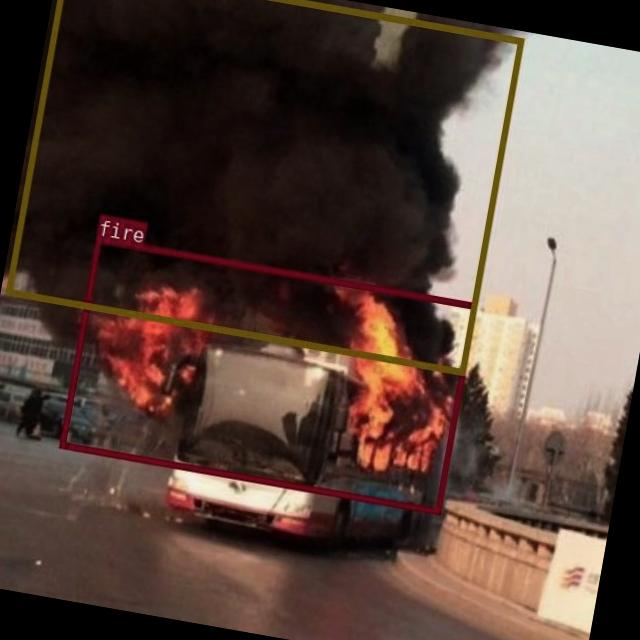fire: (59, 234, 476, 513)
smoke: (4, 0, 523, 374)
